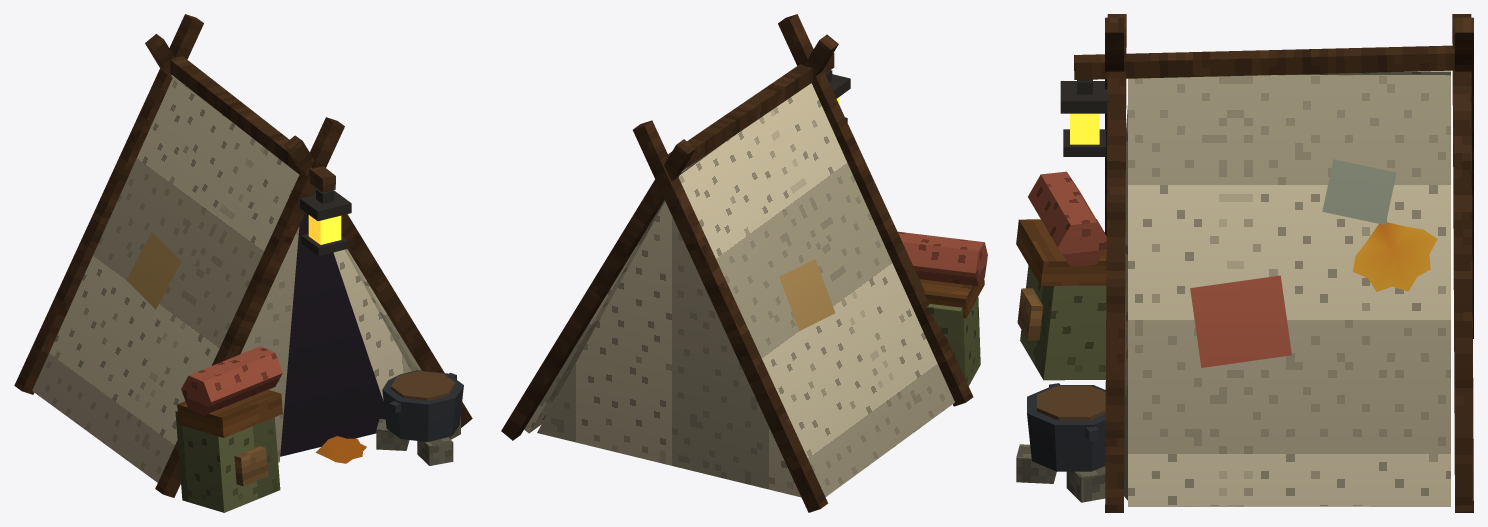
The model's file is camp_tent.glb.
3 renders of one model, left to right at view 1: azimuth 30°, elevation 25°; view 2: azimuth 150°, elevation 25°; view 3: azimuth 270°, elevation 25°, orthographic. The views are drawn at different scales.
Visible parts, largest first — view 1: camp_tent, glow_lantern; view 2: camp_tent; view 3: camp_tent, glow_lantern.
Part boxes in pixels (x1,y1,x2,y2): camp_tent: [14, 14, 472, 512]; glow_lantern: [308, 215, 341, 244]; camp_tent: [501, 14, 987, 512]; camp_tent: [1016, 14, 1473, 512]; glow_lantern: [1070, 113, 1099, 144].
Size of the model in its own units: 1.65 by 1.71 by 1.7.
16 materials, 7 textured.
